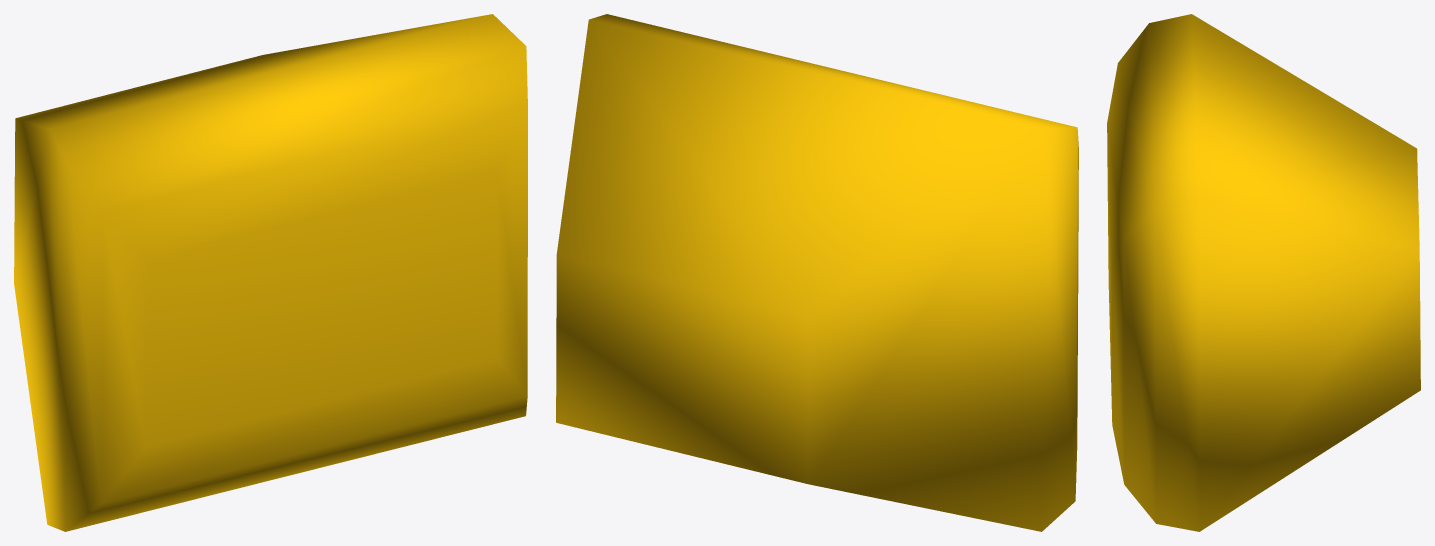
Rendered from Milho_Projetil.fbx.
3 views of the same model, side by side, from view 1: azimuth 30°, elevation 25°; view 2: azimuth 150°, elevation 25°; view 3: azimuth 270°, elevation 25° (orthographic). The views are drawn at different scales.
Parts seen in each view (by area): view 1: Cube.002; view 2: Cube.002; view 3: Cube.002.
Boxes of the visible parts, left/top/right/bottom form: Cube.002: left=14, top=14, right=527, bottom=531; Cube.002: left=556, top=14, right=1078, bottom=531; Cube.002: left=1107, top=14, right=1420, bottom=531.
Size of the model in its own units: 17.39 by 12.11 by 14.37.
